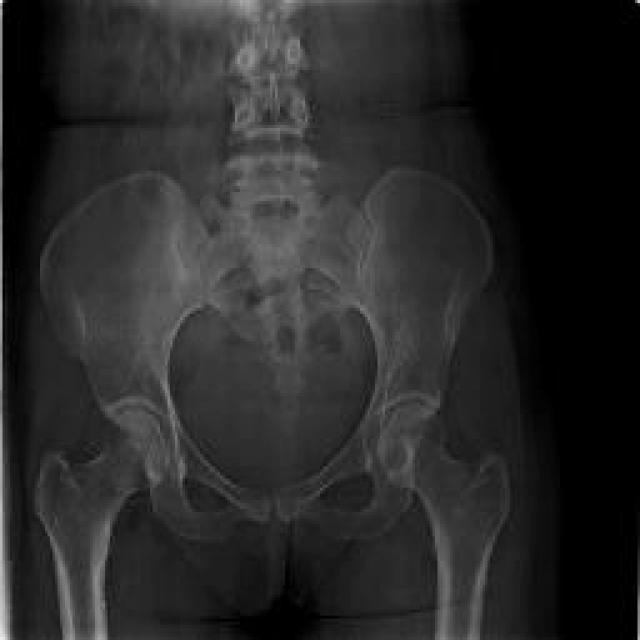normal: (34, 161, 270, 640), (276, 172, 511, 640)
